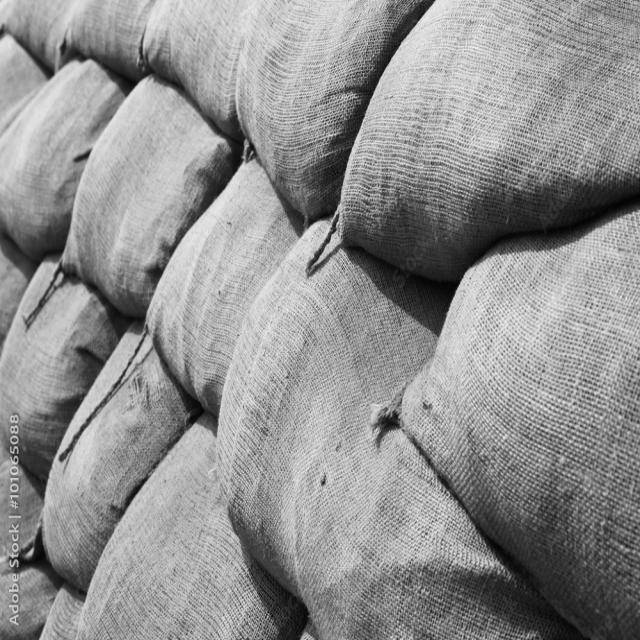sack: (214, 217, 571, 640), (372, 206, 640, 639), (322, 2, 640, 285), (138, 1, 435, 218), (73, 412, 304, 640), (34, 317, 200, 593), (56, 75, 233, 316), (145, 150, 304, 412), (2, 256, 120, 482), (1, 60, 124, 257)
